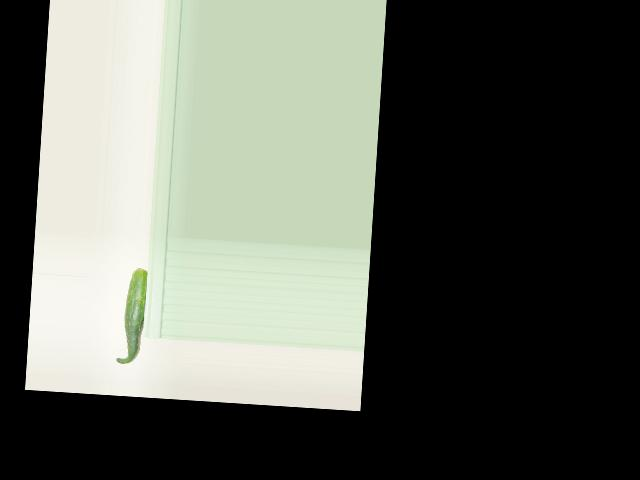cucumber: (116, 267, 147, 365)
